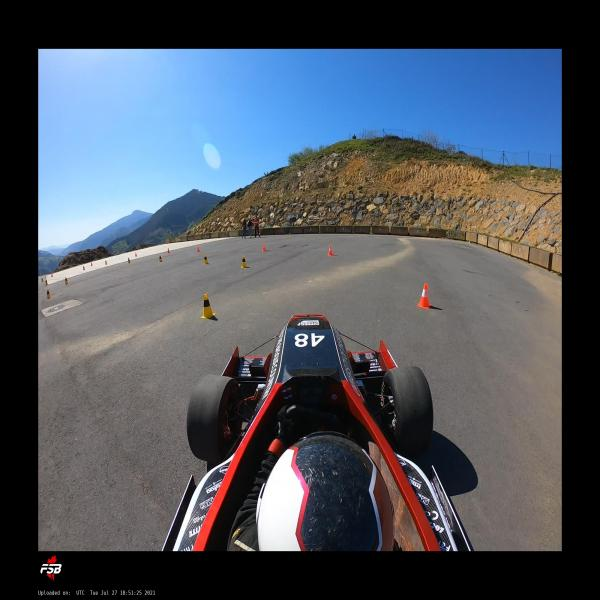orange_cone: (416, 282, 432, 308), (327, 244, 334, 256), (262, 242, 267, 251), (197, 245, 200, 252), (83, 266, 86, 270), (168, 248, 170, 254), (135, 251, 137, 257), (91, 261, 93, 266)
yellow_cone: (200, 293, 216, 319), (240, 255, 249, 268), (203, 254, 210, 264), (46, 288, 52, 299), (65, 276, 69, 284), (159, 254, 163, 262), (45, 279, 49, 286), (128, 256, 131, 264), (41, 277, 44, 282), (105, 260, 108, 264), (52, 272, 53, 278)
